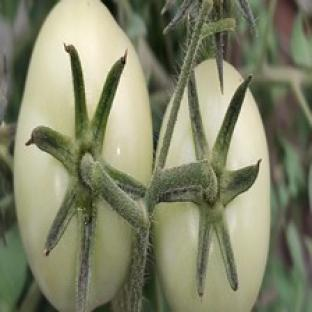Tomato: (154, 91, 270, 311)
